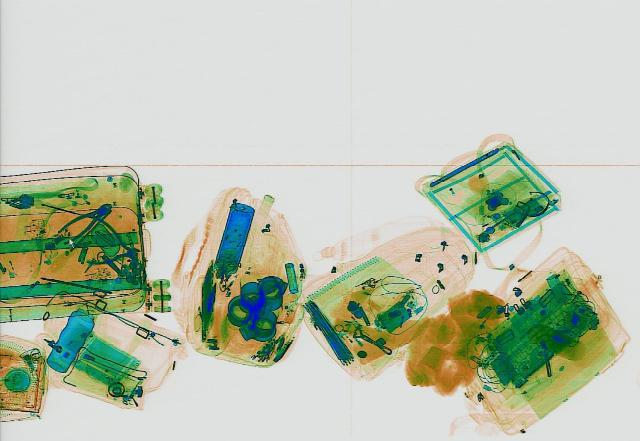Pliers: (63, 216, 155, 273), (47, 198, 117, 245)
